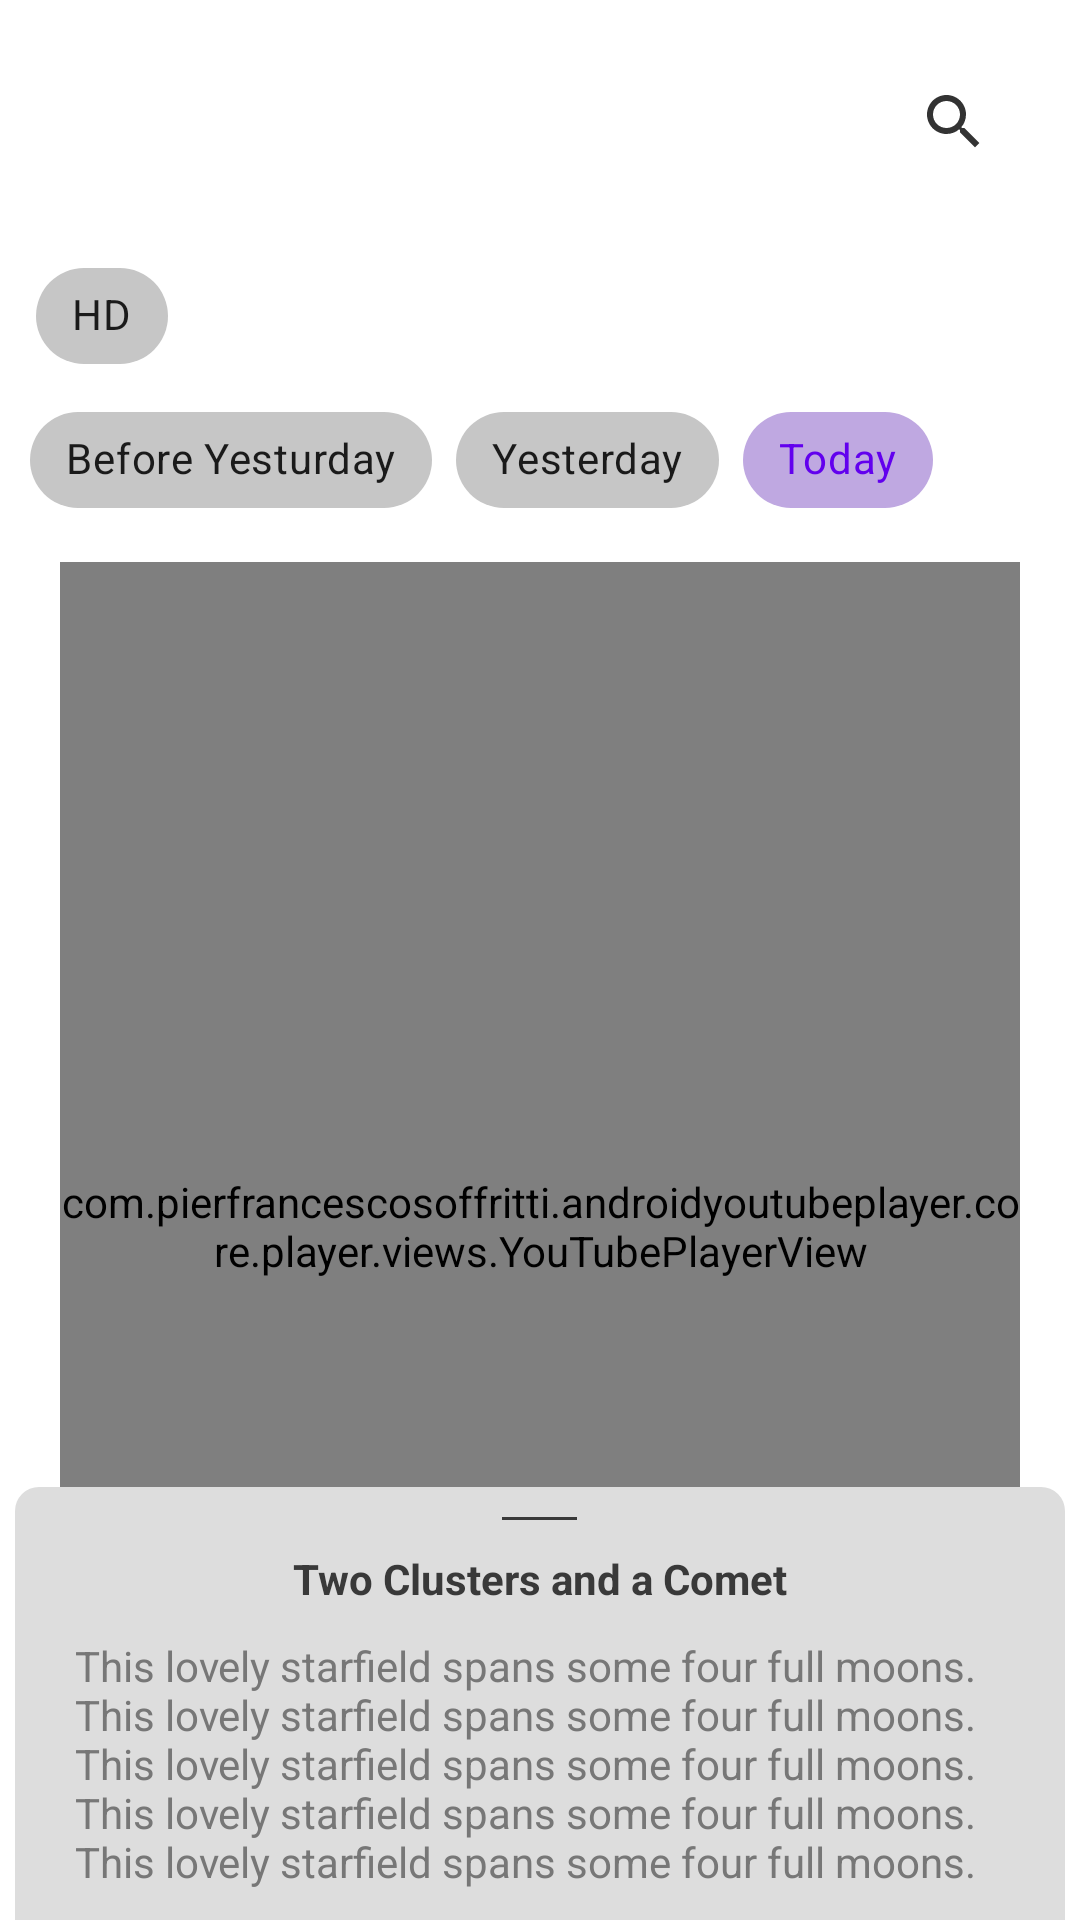

Where to tap for icons on this 1080*1920 app screen, as point (x, y):
search: point (953, 121)
